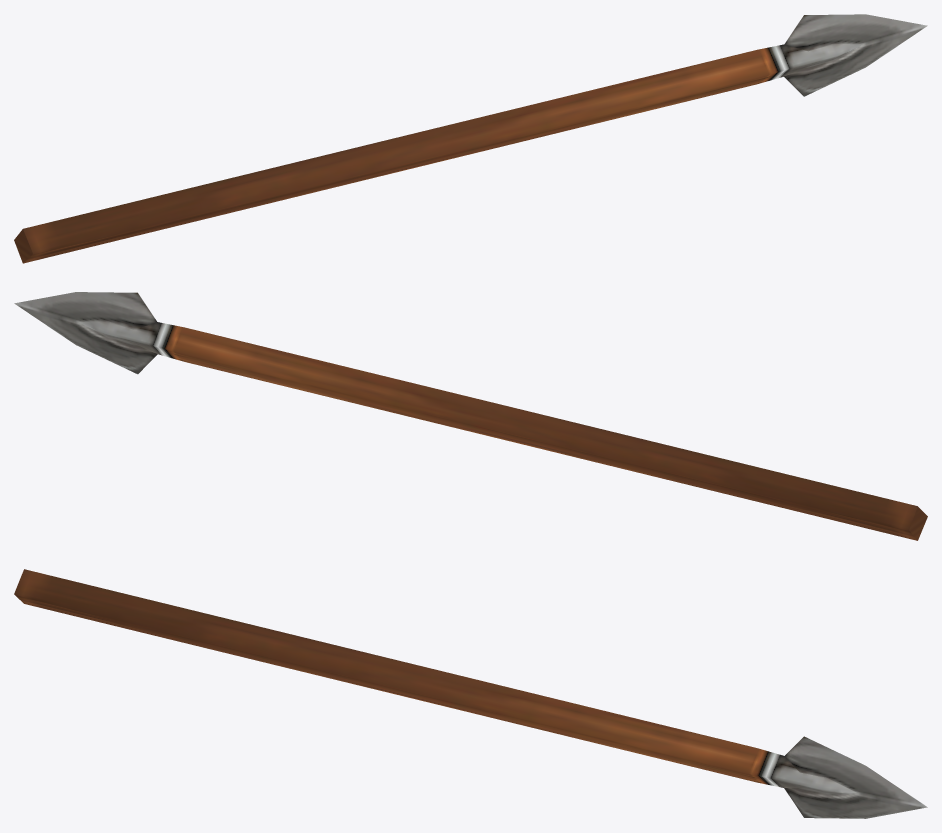
Rendered from BRB_weapon_spear.gltf.
3 renders of one model, top to bottom at view 1: azimuth 30°, elevation 25°; view 2: azimuth 150°, elevation 25°; view 3: azimuth 330°, elevation 25°, orthographic.
Visible parts, largest first — view 1: BRB_weapon_spear; view 2: BRB_weapon_spear; view 3: BRB_weapon_spear.
Boxes of the visible parts, x1,y1,x2,y2 form: BRB_weapon_spear: (14, 14, 927, 263); BRB_weapon_spear: (14, 292, 927, 540); BRB_weapon_spear: (14, 569, 927, 818).
Size of the model in its own units: 1.95 by 0.1686 by 0.0712.
Materials: 1 (1 with a texture image).
